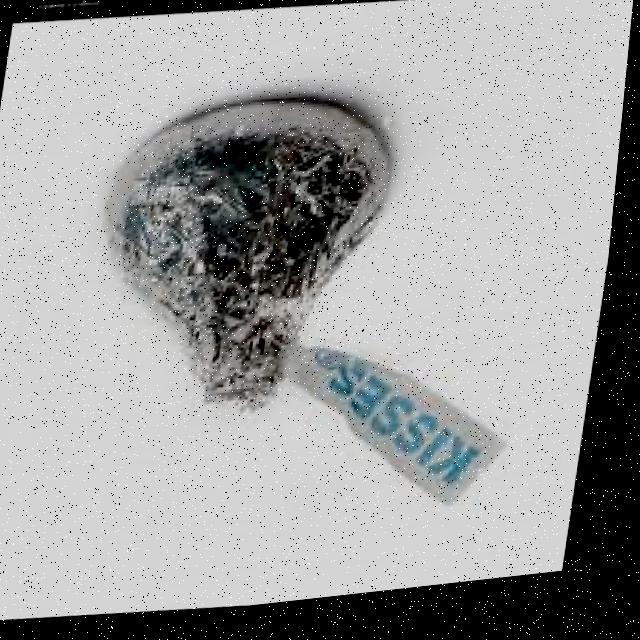kisses: (55, 56, 563, 552)
